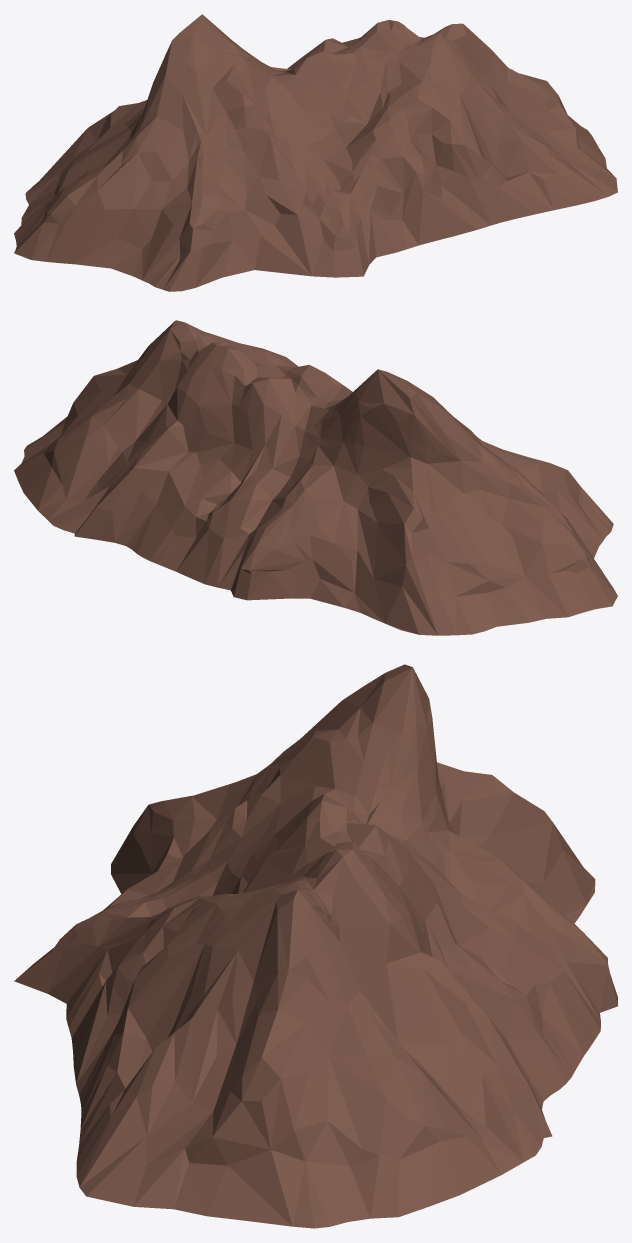
The model's file is mountain_003.fbx.
3 renders of one model, top to bottom at view 1: azimuth 30°, elevation 25°; view 2: azimuth 150°, elevation 25°; view 3: azimuth 270°, elevation 25°, orthographic. The views are drawn at different scales.
Parts seen in each view (by area): view 1: mountain_003; view 2: mountain_003; view 3: mountain_003.
Boxes of the visible parts, x1,y1,x2,y2 form: mountain_003: (14,14,617,291); mountain_003: (14,320,617,635); mountain_003: (14,664,617,1228).
Bounding box in the file's own units: 12996 × 7671 × 4009.
